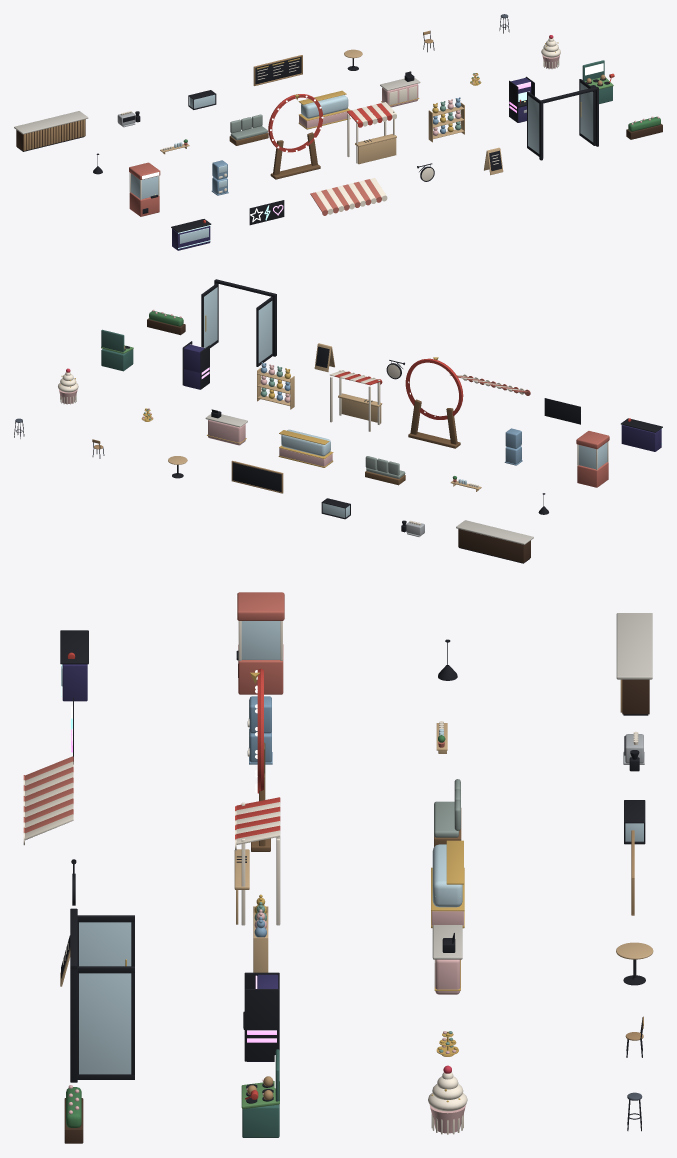
Rendered from street_shops_set.fbx.
The picture shows the model from 3 angles, top to bottom: view 1: azimuth 30°, elevation 25°; view 2: azimuth 150°, elevation 25°; view 3: azimuth 270°, elevation 25°; orthographic projection. The views are drawn at different scales.
Parts seen in each view (by area): view 1: ShopDoor_Leaf, CafeBar_Slats, ShopAwning_StripeA, ShopAwning_StripeB, DartBooth_Shelf, MenuBoard_Board, WheelFrame_Stand, ShopDoor_Frame, CafeBar_Top, WheelFrame_Ring, DessertShowcase_Glass, PlushShelf_Frame (+14 smaller); view 2: ShopDoor_Leaf, CafeBar_Body, MenuBoard_Board, WheelFrame_Stand, PrizeCounter_Body, DartBooth_Shelf, CafeBar_Top, ArcadeCabinet_Body, WheelFrame_Ring, DessertShowcase_Glass, ShopDoor_LeafFrame, DessertCounter_Body (+14 smaller); view 3: ShopDoor_Leaf, ArcadeCabinet_Sides, CafeBar_Top, ShopDoor_LeafFrame, ShopAwning_StripeB, ShopAwning_StripeA, ClawMachine_Glass, ClawMachine_Base, ShopDoor_Frame, ClawMachine_Top, DessertShowcase_Glass, DessertShowcase_Trim (+13 smaller).
Part boxes in pixels (x1=…): ShopDoor_Leaf: x1=528, y1=83, x2=593, y2=153; CafeBar_Slats: x1=23, y1=119, x2=85, y2=150; ShopAwning_StripeA: x1=310, y1=179, x2=381, y2=215; ShopAwning_StripeB: x1=316, y1=178, x2=387, y2=214; DartBooth_Shelf: x1=355, y1=134, x2=396, y2=164; MenuBoard_Board: x1=255, y1=57, x2=301, y2=84; WheelFrame_Stand: x1=270, y1=132, x2=320, y2=179; ShopDoor_Frame: x1=539, y1=86, x2=598, y2=160; CafeBar_Top: x1=14, y1=111, x2=88, y2=134; WheelFrame_Ring: x1=268, y1=94, x2=322, y2=152; DessertShowcase_Glass: x1=301, y1=95, x2=348, y2=118; PlushShelf_Frame: x1=428, y1=102, x2=464, y2=142; ShopDoor_Leaf: x1=204, y1=287, x2=272, y2=362; CafeBar_Body: x1=458, y1=529, x2=530, y2=562; MenuBoard_Board: x1=232, y1=462, x2=281, y2=491; WheelFrame_Stand: x1=408, y1=399, x2=460, y2=448; PrizeCounter_Body: x1=621, y1=425, x2=661, y2=451; DartBooth_Shelf: x1=338, y1=393, x2=382, y2=423; CafeBar_Top: x1=456, y1=520, x2=533, y2=544; ArcadeCabinet_Body: x1=183, y1=344, x2=204, y2=389; WheelFrame_Ring: x1=405, y1=358, x2=463, y2=419; DessertShowcase_Glass: x1=281, y1=429, x2=330, y2=456; ShopDoor_LeafFrame: x1=201, y1=283, x2=272, y2=366; DessertCounter_Body: x1=208, y1=420, x2=245, y2=445; ShopDoor_Leaf: x1=79, y1=922, x2=131, y2=1074; ArcadeCabinet_Sides: x1=244, y1=972, x2=279, y2=1061; CafeBar_Top: x1=616, y1=613, x2=652, y2=679; ShopDoor_LeafFrame: x1=77, y1=915, x2=134, y2=1079; ShopAwning_StripeB: x1=23, y1=761, x2=73, y2=845; ShopAwning_StripeA: x1=23, y1=756, x2=73, y2=833; ClawMachine_Glass: x1=241, y1=621, x2=280, y2=659; ClawMachine_Base: x1=238, y1=644, x2=283, y2=694; ShopDoor_Frame: x1=70, y1=908, x2=77, y2=1082; ClawMachine_Top: x1=237, y1=592, x2=284, y2=620; DessertShowcase_Glass: x1=432, y1=844, x2=462, y2=907; DessertShowcase_Trim: x1=431, y1=840, x2=464, y2=928.
Size of the model in its own units: 93.1 by 14.12 by 50.54.
